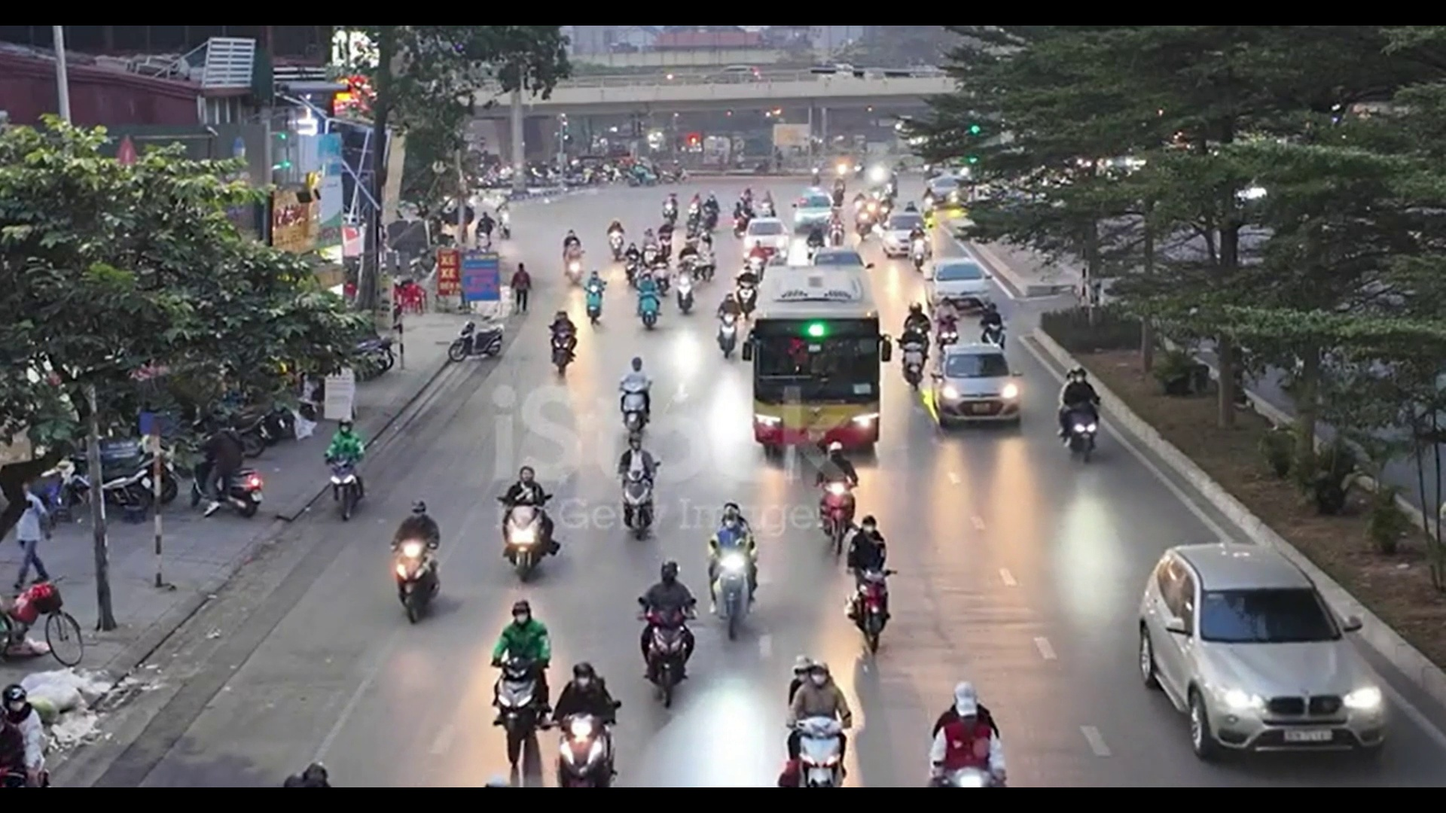car: (1137, 542, 1391, 759), (913, 341, 1025, 427), (745, 218, 788, 253)
motorcycle: (707, 536, 759, 640), (639, 615, 694, 706), (503, 507, 562, 584), (393, 544, 441, 625), (621, 459, 660, 540)
